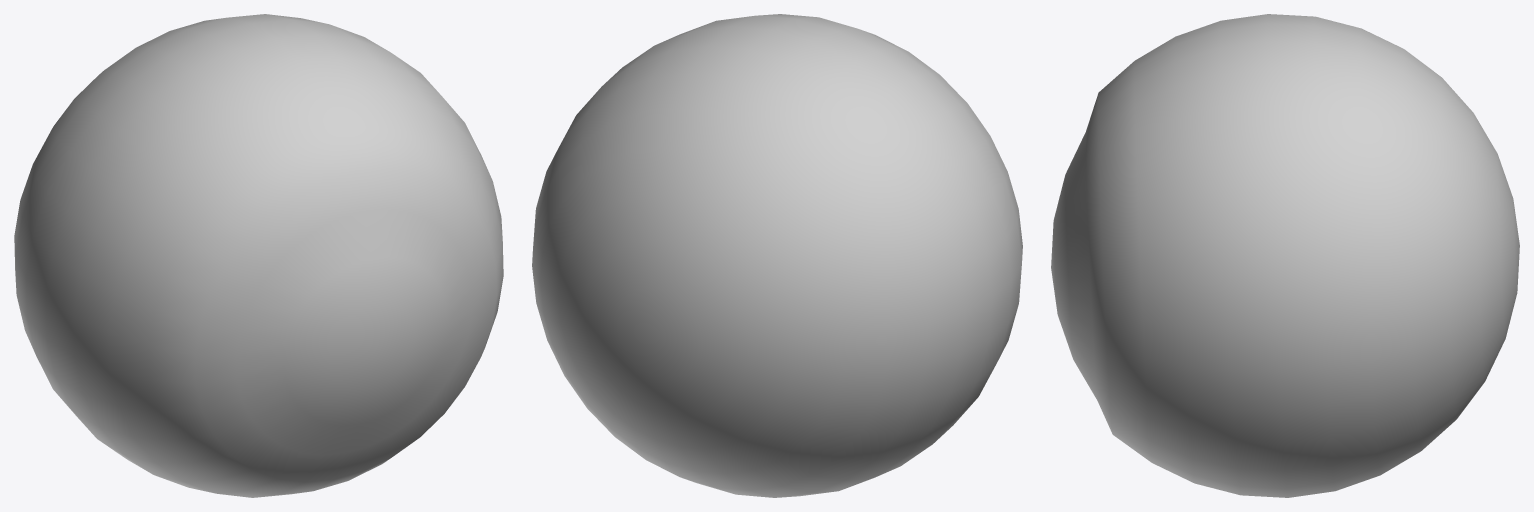
The model's file is lan cuoi roi thoi.glb.
The picture shows the model from 3 angles, left to right: view 1: azimuth 30°, elevation 25°; view 2: azimuth 150°, elevation 25°; view 3: azimuth 270°, elevation 25°; orthographic projection.
Parts seen in each view (by area): view 1: Sphere.001; view 2: Sphere.001; view 3: Sphere.001.
Part boxes in pixels (x1=…): Sphere.001: x1=14, y1=14, x2=503, y2=497; Sphere.001: x1=532, y1=14, x2=1022, y2=497; Sphere.001: x1=1051, y1=14, x2=1519, y2=497.
Size of the model in its own units: 2.1 by 2.06 by 2.
Materials: 2 (2 with a texture image).
